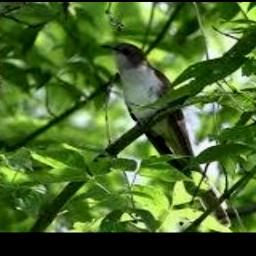Cuckoo: (102, 42, 232, 229)
